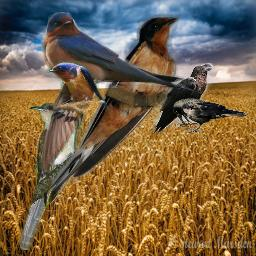Crow: (152, 63, 215, 134), (173, 98, 247, 135)
Cuckoo: (19, 102, 79, 250)
Swallow: (45, 12, 183, 191), (41, 12, 200, 94), (39, 61, 108, 170)
